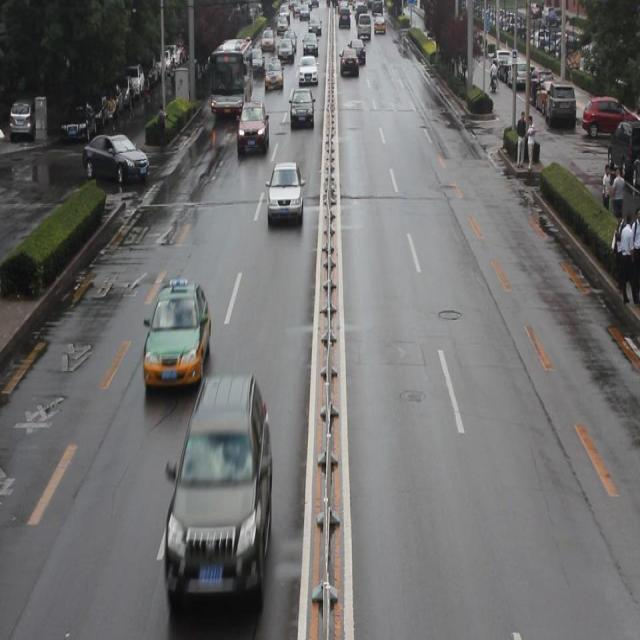car: (164, 374, 272, 595), (143, 279, 210, 389), (82, 132, 149, 188), (266, 160, 303, 224), (236, 103, 269, 153), (289, 89, 313, 128)
van: (210, 37, 253, 115)
